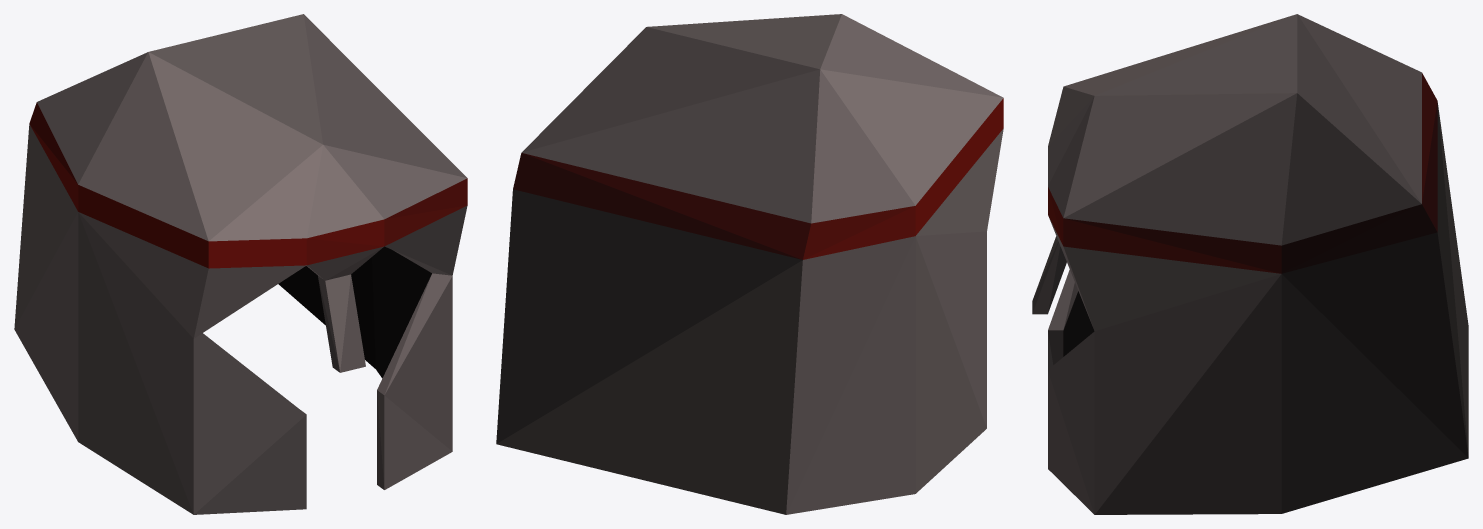
Rendered from steel-med-helm.obj.
3 renders of one model, left to right at view 1: azimuth 30°, elevation 25°; view 2: azimuth 150°, elevation 25°; view 3: azimuth 270°, elevation 25°, orthographic. The views are drawn at different scales.
Parts seen in each view (by area): view 1: Item Steel med helm 2026-09-24_18-17-35; view 2: Item Steel med helm 2026-09-24_18-17-35; view 3: Item Steel med helm 2026-09-24_18-17-35.
Part boxes in pixels (x1,y1,x2,y2): Item Steel med helm 2026-09-24_18-17-35: (14, 14, 467, 514); Item Steel med helm 2026-09-24_18-17-35: (496, 14, 1003, 514); Item Steel med helm 2026-09-24_18-17-35: (1032, 14, 1468, 514).
Bounding box in the file's own units: 24 × 28 × 28.
